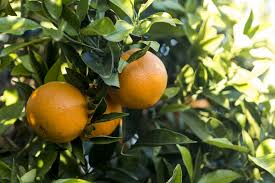orange: (29, 75, 90, 143), (114, 49, 166, 111)
